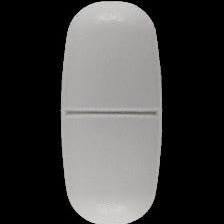55700-306: (0, 0, 224, 224)
